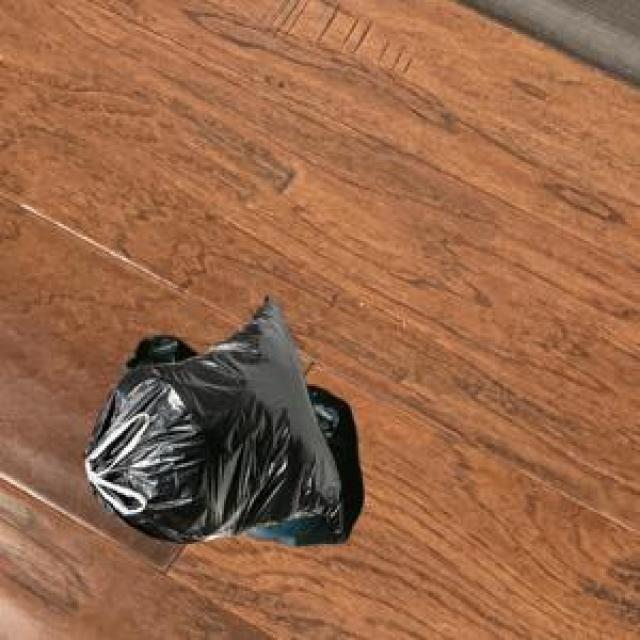Trashbag: (84, 292, 368, 558)
